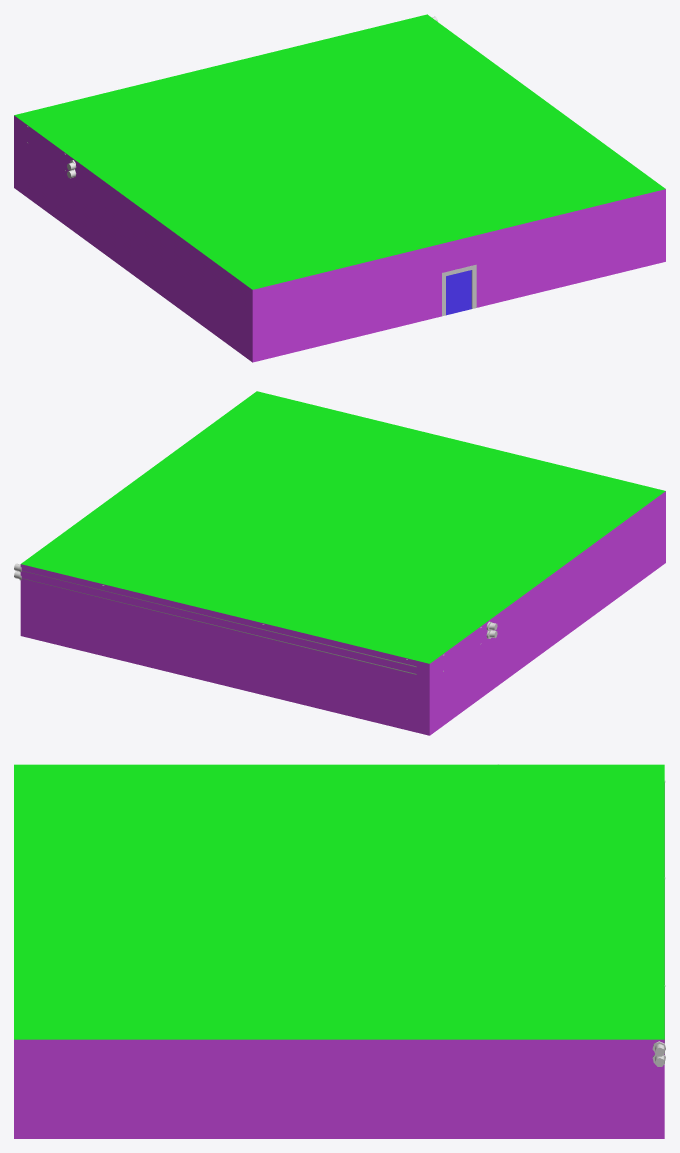
File: SiteRoom1.FBX
3 views of the same model, one above another, from view 1: azimuth 30°, elevation 25°; view 2: azimuth 150°, elevation 25°; view 3: azimuth 270°, elevation 25° (orthographic). The views are drawn at different scales.
Visible parts, largest first — view 1: Box001, Box003; view 2: Box001, Cylinder001, Cylinder002; view 3: Box001.
Boxes of the visible parts, box(x1,y1,x2,y2) form: Box001: box(14, 14, 665, 362); Box003: box(442, 264, 476, 316); Box001: box(20, 391, 665, 735); Cylinder001: box(14, 563, 497, 667); Cylinder002: box(14, 571, 497, 674); Box001: box(14, 764, 664, 1138).
Size of the model in its own units: 2578 by 424 by 2505.
